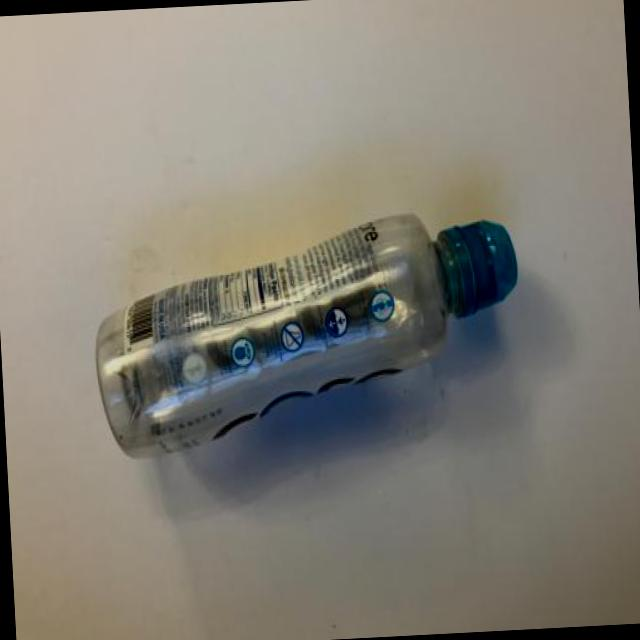Recycle: (88, 192, 528, 464)
